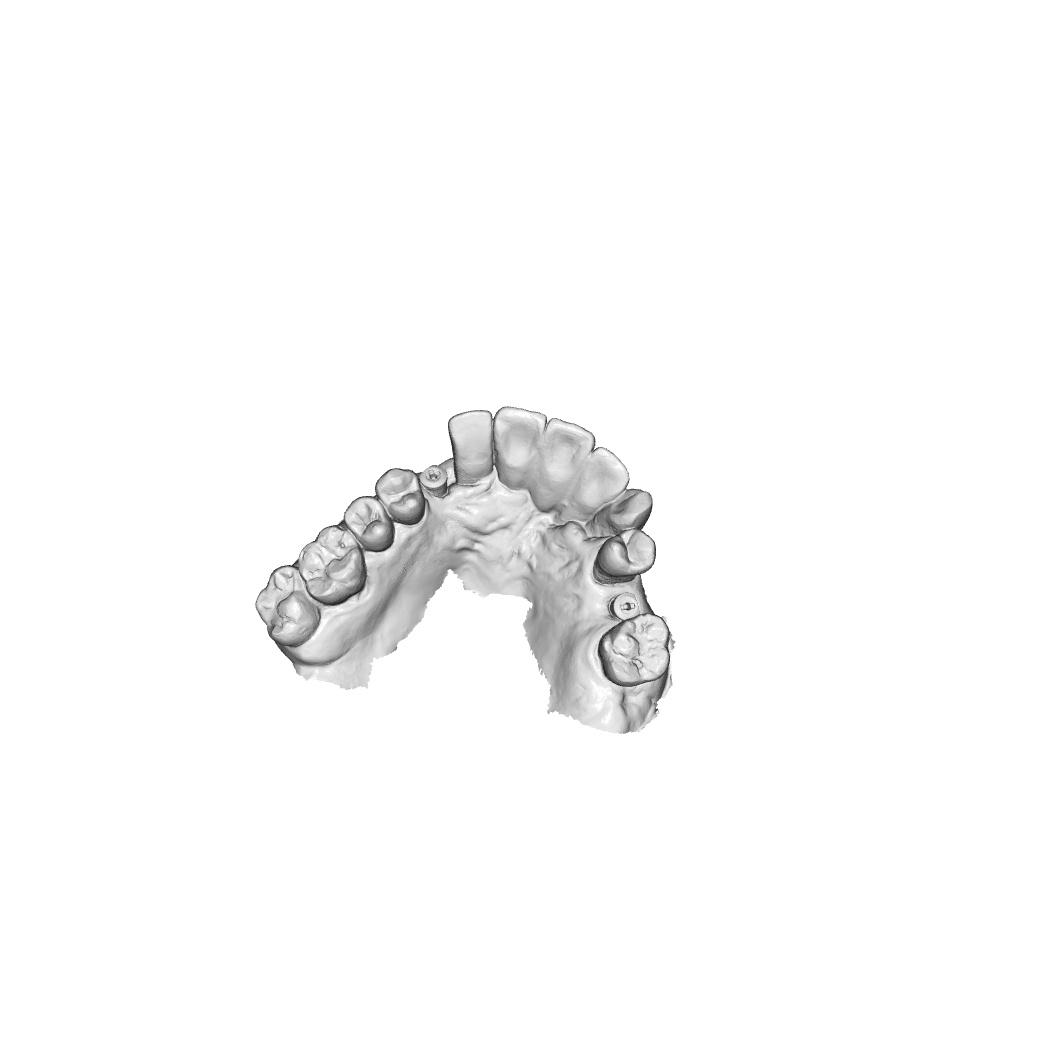canine: (585, 488, 654, 537)
implant_minus: (608, 591, 641, 622)
implant_plus: (419, 463, 450, 499)
incisor: (492, 406, 547, 490), (447, 409, 495, 486), (542, 417, 596, 467), (580, 445, 631, 495)
molar: (297, 524, 367, 606), (597, 612, 672, 688), (254, 564, 321, 648)
premolar: (592, 527, 656, 586), (374, 467, 426, 526), (343, 495, 395, 553)
